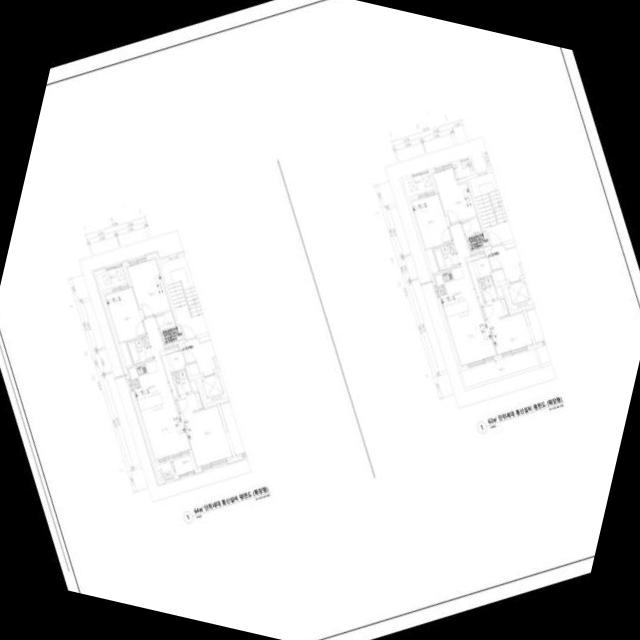background: (0, 0, 640, 640)
space_balconi: (403, 172, 434, 197), (97, 266, 128, 290), (172, 453, 194, 475)
space_bedroom: (176, 391, 233, 469), (482, 297, 533, 357), (124, 256, 172, 316), (430, 165, 478, 223), (409, 191, 452, 249), (103, 285, 146, 342)
space_elevator: (503, 277, 533, 310), (198, 371, 228, 404)
space_elevator_hall: (181, 335, 219, 376), (487, 241, 524, 282)
space_front: (470, 251, 492, 278), (164, 344, 186, 371)
space_kitchen: (432, 266, 474, 319), (126, 359, 168, 412)
space_living_room: (139, 316, 192, 462), (445, 222, 498, 368)
space_multipurpose_space: (155, 310, 181, 347), (461, 216, 487, 253)
space_other: (424, 248, 439, 273), (118, 342, 133, 367)
space_outdoor_room: (155, 461, 176, 480), (455, 159, 475, 178)
space_staircase: (160, 255, 208, 339), (469, 171, 513, 246)
space_toilet: (432, 242, 459, 271), (126, 335, 153, 364), (477, 275, 505, 302), (172, 368, 199, 395)
